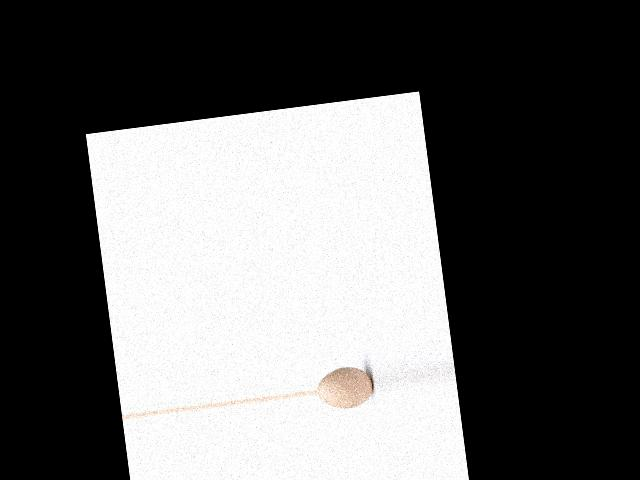egg: (315, 364, 375, 412)
